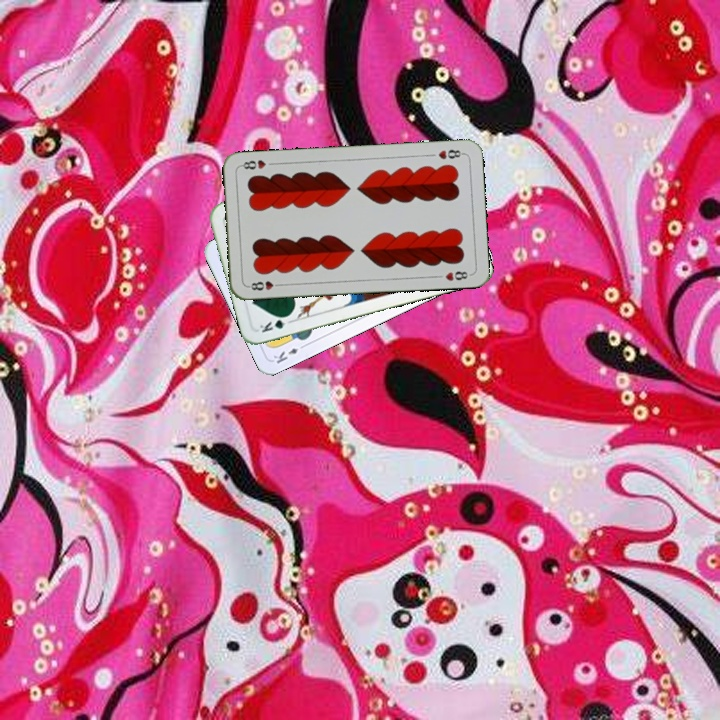EK: (269, 340, 309, 366)
GK: (256, 311, 295, 335)
H8: (244, 277, 285, 293), (434, 146, 466, 162)
